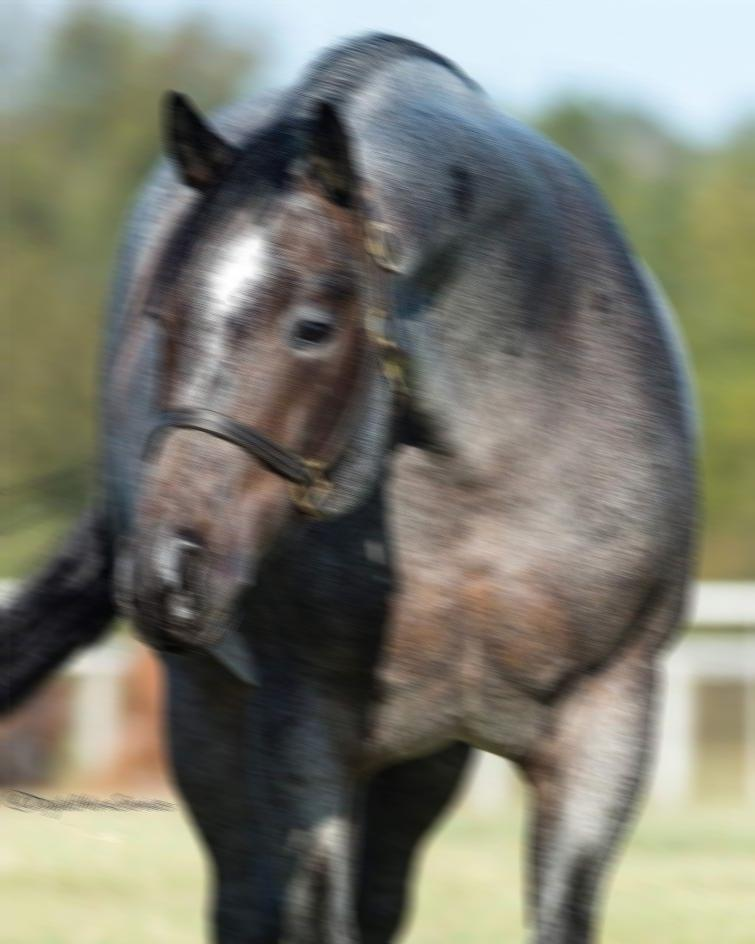horse: (0, 28, 703, 942)
